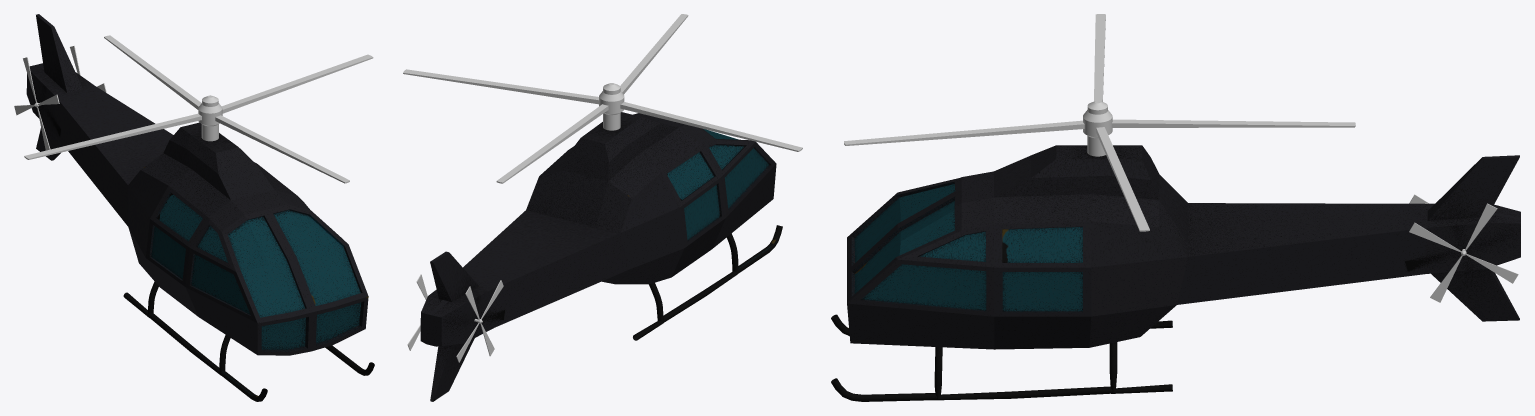
The model's file is anim_000007.obj.
3 views of the same model, side by side, from view 1: azimuth 30°, elevation 25°; view 2: azimuth 150°, elevation 25°; view 3: azimuth 270°, elevation 25° (orthographic). The views are drawn at different scales.
Parts seen in each view (by area): view 1: Helicopter.007_Cylinder.008, Helicopter.001_Cylinder.001, Helicopter.004_Cylinder.005; view 2: Helicopter.007_Cylinder.008, Helicopter.001_Cylinder.001, Helicopter.004_Cylinder.005; view 3: Helicopter.007_Cylinder.008, Helicopter.001_Cylinder.001, Helicopter.003_Cylinder.004.
Boxes of the visible parts, box(x1,y1,x2,y2) form: Helicopter.007_Cylinder.008: box(26, 14, 374, 401); Helicopter.001_Cylinder.001: box(24, 35, 373, 183); Helicopter.004_Cylinder.005: box(14, 57, 59, 150); Helicopter.007_Cylinder.008: box(420, 112, 782, 401); Helicopter.001_Cylinder.001: box(403, 14, 802, 183); Helicopter.004_Cylinder.005: box(456, 280, 503, 362); Helicopter.007_Cylinder.008: box(831, 145, 1520, 401); Helicopter.001_Cylinder.001: box(844, 14, 1355, 231); Helicopter.003_Cylinder.004: box(1409, 203, 1518, 302).
Bounding box in the file's own units: 5.55 × 3.21 × 7.49.
